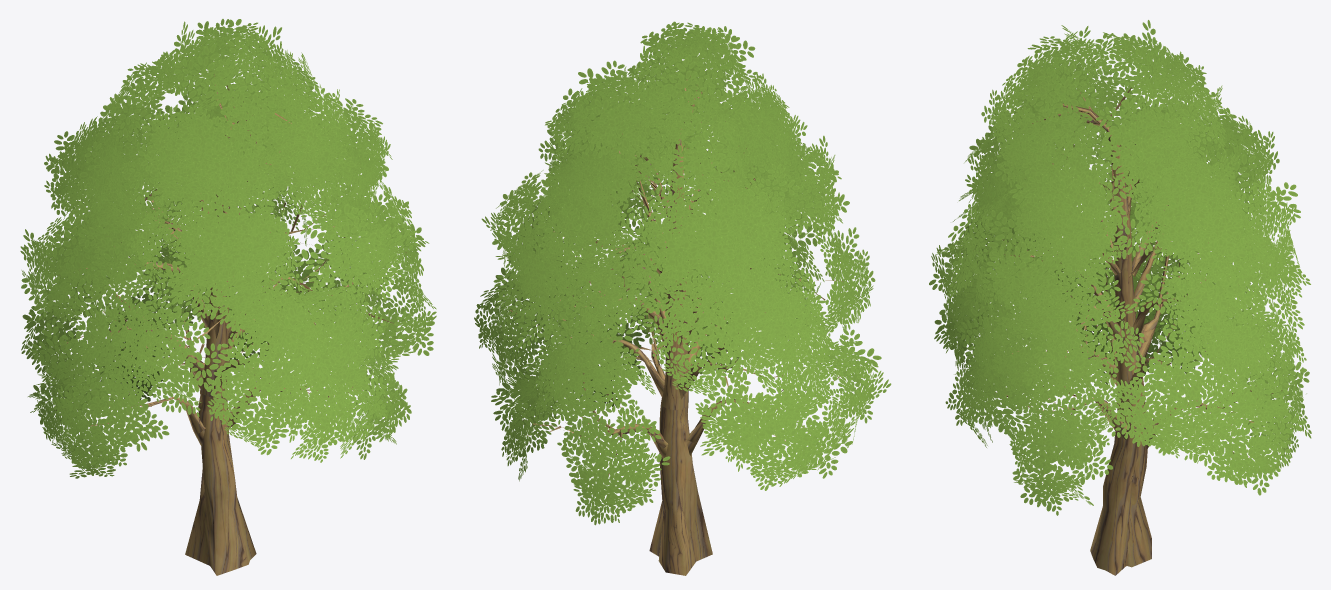
File: DDTree1.gltf
3 views of the same model, side by side, from view 1: azimuth 30°, elevation 25°; view 2: azimuth 150°, elevation 25°; view 3: azimuth 270°, elevation 25° (orthographic). The views are drawn at different scales.
Visible parts, largest first — view 1: DDTree1; view 2: DDTree1; view 3: DDTree1.
Boxes of the visible parts, bbox=[...] form: DDTree1: bbox=[20, 19, 436, 575]; DDTree1: bbox=[474, 21, 891, 575]; DDTree1: bbox=[929, 20, 1311, 575].
Bounding box in the file's own units: 11.5 × 16.12 × 10.78.
Materials: 2 (2 with a texture image).
